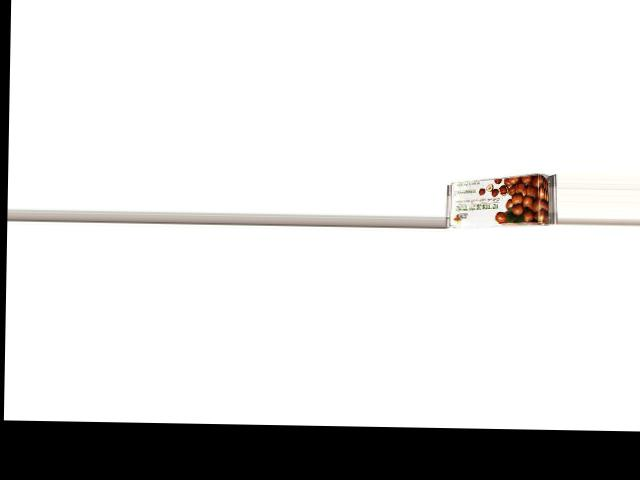chocolate: (445, 171, 556, 226)
